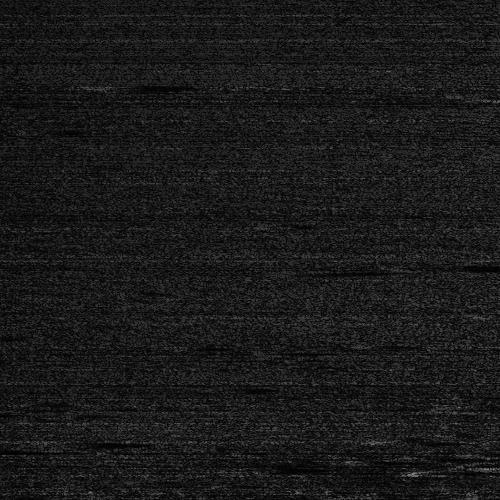object: (377, 463, 470, 474), (360, 261, 443, 268), (23, 436, 86, 445), (431, 403, 500, 410), (67, 81, 130, 88), (464, 460, 500, 471), (452, 93, 500, 100), (370, 438, 433, 443), (257, 268, 298, 273)
shadow: (424, 463, 487, 474), (55, 436, 128, 445), (99, 81, 189, 88), (402, 261, 482, 268), (278, 268, 386, 273), (402, 438, 463, 443), (473, 403, 500, 410), (489, 93, 500, 100)
